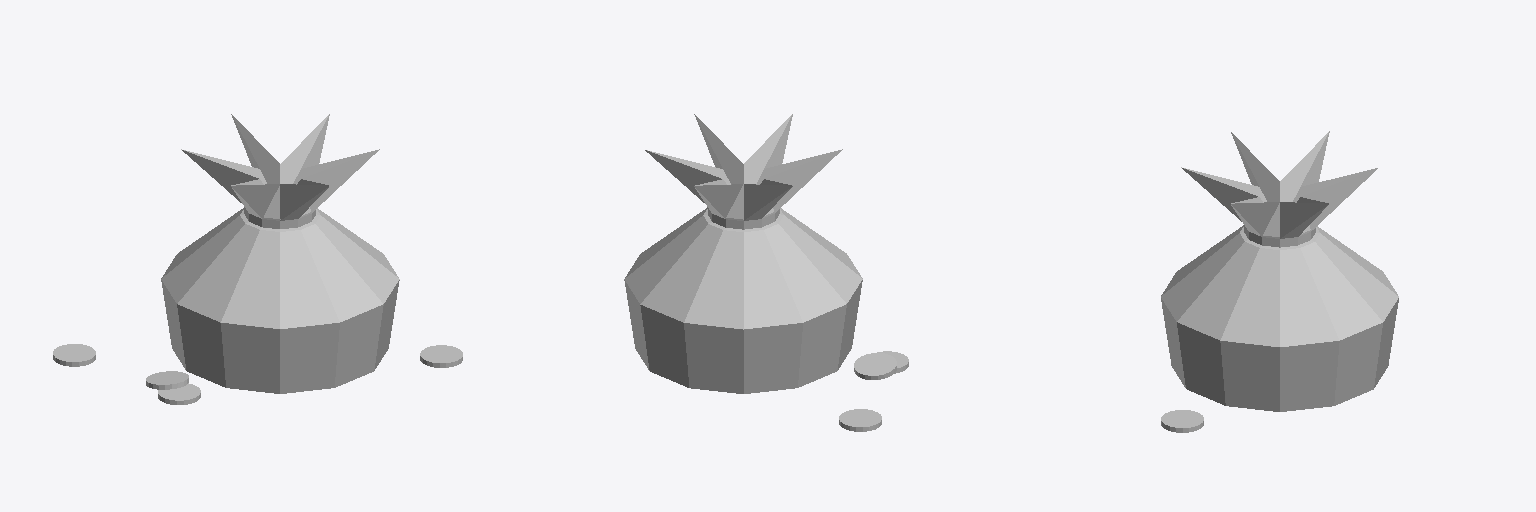
The model's file is Beutel.obj.
The picture shows the model from 3 angles: view 1: azimuth 30°, elevation 25°; view 2: azimuth 150°, elevation 25°; view 3: azimuth 270°, elevation 25°; orthographic projection.
Visible parts, largest first — view 1: pCylinder1, pasted__pCylinder3 group, pasted__pCylinder3 group2, pCylinder3, pasted__pCylinder3 group1; view 2: pCylinder1, pasted__pCylinder3 group1, pasted__pCylinder3 group; view 3: pCylinder1, pasted__pCylinder3 group2.
Part boxes in pixels (x1,y1,x2,y2): pCylinder1: (161, 114, 399, 393); pasted__pCylinder3 group: (53, 344, 95, 366); pasted__pCylinder3 group2: (420, 345, 462, 367); pCylinder3: (158, 383, 200, 404); pasted__pCylinder3 group1: (146, 371, 188, 389); pCylinder1: (624, 114, 862, 393); pasted__pCylinder3 group1: (854, 353, 896, 379); pasted__pCylinder3 group: (839, 409, 881, 431); pCylinder1: (1161, 131, 1398, 411); pasted__pCylinder3 group2: (1161, 410, 1203, 432).
Size of the model in its own units: 3.32 by 2.05 by 2.2.